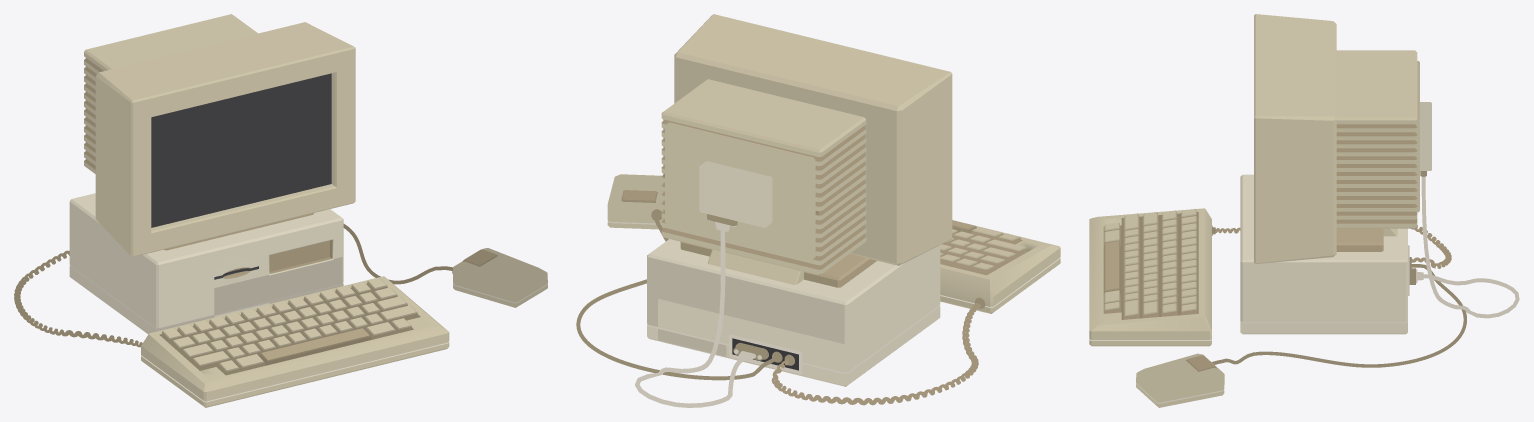
Rendered from Desktop-transformed.glb.
3 views of the same model, side by side, from view 1: azimuth 30°, elevation 25°; view 2: azimuth 150°, elevation 25°; view 3: azimuth 270°, elevation 25° (orthographic). The views are drawn at different scales.
Visible parts, largest first — view 1: Object_4, Screen, Object_11, Object_6, Object_7, Object_8, Object_10, Object_9; view 2: Object_4, Object_11, Object_6, Object_10, Object_7, Object_9, Object_8, Object_5; view 3: Object_4, Object_11, Object_6, Object_9, Object_10, Object_8, Object_7.
Part boxes in pixels (<box>): Object_4: <box>84,14,547,407</box>; Screen: <box>151,73,331,227</box>; Object_11: <box>69,193,343,334</box>; Object_6: <box>84,58,496,375</box>; Object_7: <box>14,250,479,371</box>; Object_8: <box>159,240,497,365</box>; Object_10: <box>70,265,547,402</box>; Object_9: <box>223,224,497,284</box>; Object_4: <box>607,14,1060,313</box>; Object_11: <box>647,161,940,386</box>; Object_6: <box>622,119,1027,287</box>; Object_10: <box>608,220,1060,407</box>; Object_7: <box>622,119,1003,405</box>; Object_9: <box>576,191,985,380</box>; Object_8: <box>622,191,1029,365</box>; Object_5: <box>732,338,798,370</box>; Object_4: <box>1089,14,1419,407</box>; Object_11: <box>1240,102,1431,334</box>; Object_6: <box>1103,124,1417,369</box>; Object_9: <box>1121,171,1466,367</box>; Object_10: <box>1089,176,1519,403</box>; Object_8: <box>1103,171,1426,371</box>; Object_7: <box>1103,124,1451,370</box>.
Size of the model in its own units: 2.01 by 1.09 by 1.86.
